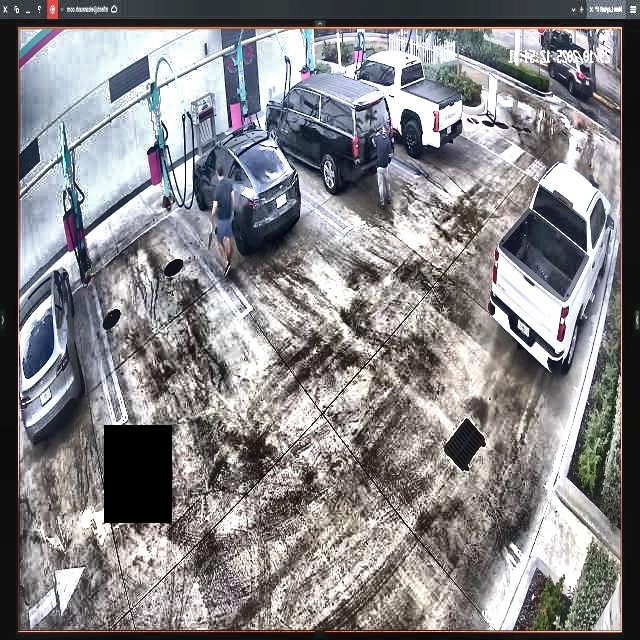Car: (265, 73, 392, 185), (192, 126, 297, 252), (337, 52, 462, 152)
